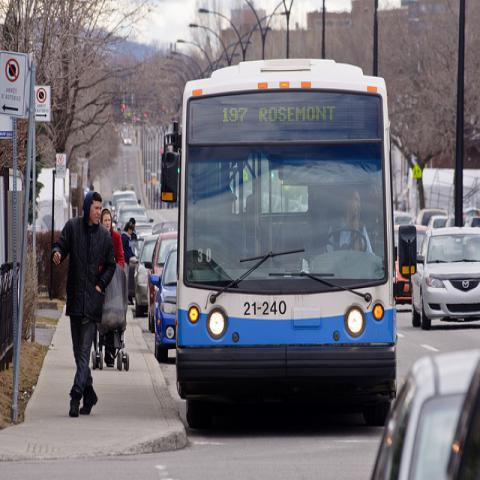bus: (173, 61, 402, 434)
car: (371, 352, 479, 474), (411, 226, 479, 331), (128, 218, 181, 298), (145, 231, 180, 335), (152, 249, 178, 363), (394, 224, 430, 304), (130, 234, 160, 317), (388, 206, 480, 232), (114, 204, 150, 232), (113, 199, 138, 222), (415, 209, 448, 225), (112, 190, 137, 205), (135, 223, 153, 239), (428, 215, 449, 228)
